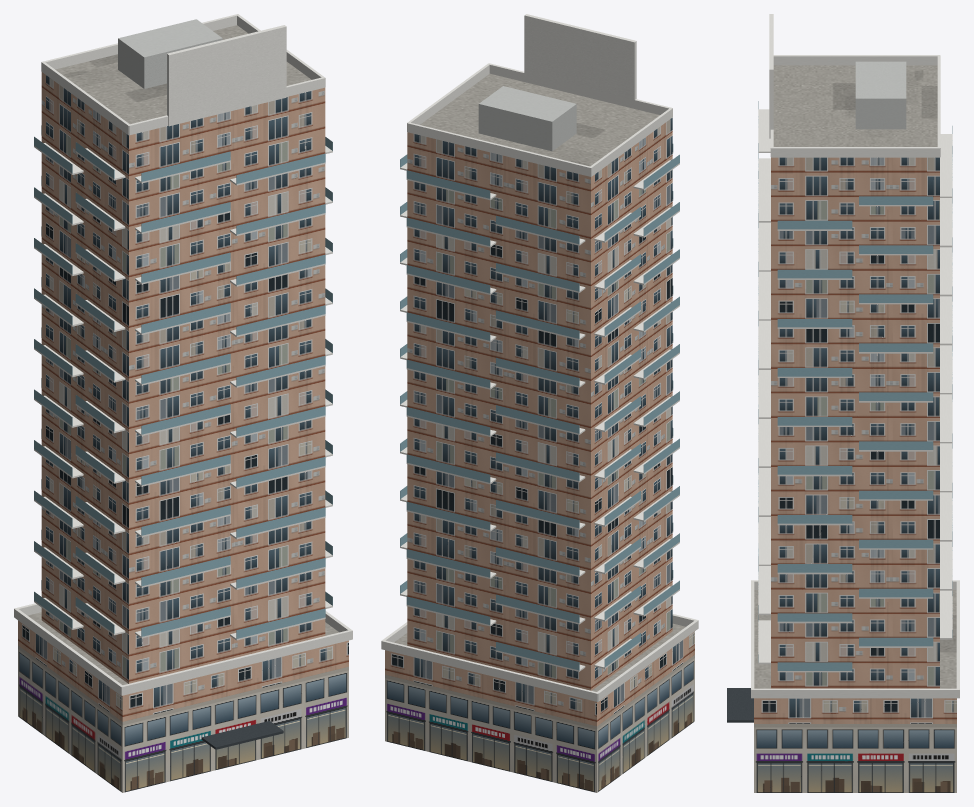
Rendered from OW_CaoOc_CH_ZigZag_82.fbx.
The picture shows the model from 3 angles, left to right: view 1: azimuth 30°, elevation 25°; view 2: azimuth 150°, elevation 25°; view 3: azimuth 270°, elevation 25°; orthographic projection. The views are drawn at different scales.
Visible parts, largest first — view 1: OW_CaoOc_CH_ZigZag_82_LOD0; view 2: OW_CaoOc_CH_ZigZag_82_LOD0; view 3: OW_CaoOc_CH_ZigZag_82_LOD0.
Boxes of the visible parts, box(x1,y1,x2,y2) form: OW_CaoOc_CH_ZigZag_82_LOD0: box(14, 14, 352, 792); OW_CaoOc_CH_ZigZag_82_LOD0: box(381, 14, 698, 792); OW_CaoOc_CH_ZigZag_82_LOD0: box(727, 14, 959, 792).
Size of what is drawn, in the model's own units: 30.7 by 91 by 27.55.
